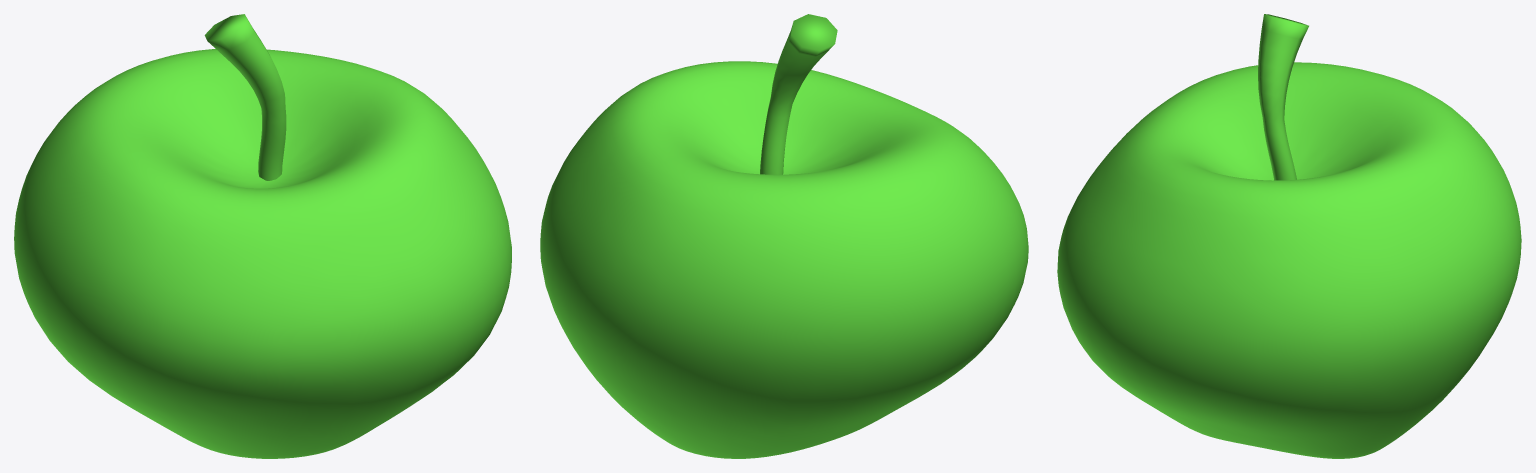
File: apple.gltf
3 renders of one model, left to right at view 1: azimuth 30°, elevation 25°; view 2: azimuth 150°, elevation 25°; view 3: azimuth 270°, elevation 25°, orthographic. The views are drawn at different scales.
Visible parts, largest first — view 1: apple_Sphere_009, stem_Cylinder; view 2: apple_Sphere_009, stem_Cylinder; view 3: apple_Sphere_009, stem_Cylinder.
Part boxes in pixels (left/top/right/bottom): apple_Sphere_009: left=14, top=49, right=511, bottom=458; stem_Cylinder: left=204, top=14, right=286, bottom=180; apple_Sphere_009: left=540, top=61, right=1028, bottom=458; stem_Cylinder: left=760, top=14, right=837, bottom=174; apple_Sphere_009: left=1057, top=62, right=1521, bottom=458; stem_Cylinder: left=1258, top=14, right=1308, bottom=180.
Bounding box in the file's own units: 1.15 × 1.05 × 1.12.
